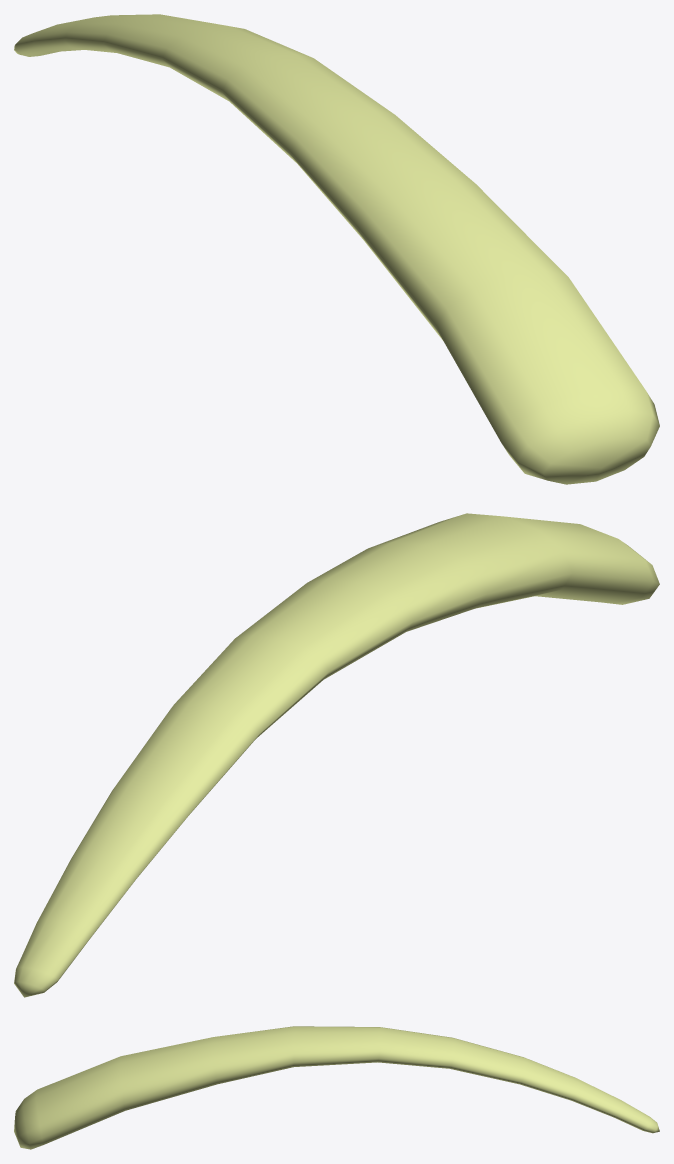
Rendered from Bone2_Bogdan.fbx.
3 views of the same model, one above another, from view 1: azimuth 30°, elevation 25°; view 2: azimuth 150°, elevation 25°; view 3: azimuth 270°, elevation 25° (orthographic). The views are drawn at different scales.
Parts seen in each view (by area): view 1: Bone2; view 2: Bone2; view 3: Bone2.
Boxes of the visible parts, bbox=[...] form: Bone2: bbox=[14, 14, 659, 484]; Bone2: bbox=[14, 513, 659, 997]; Bone2: bbox=[14, 1026, 659, 1149].
Bounding box in the file's own units: 228 × 271 × 1474.
